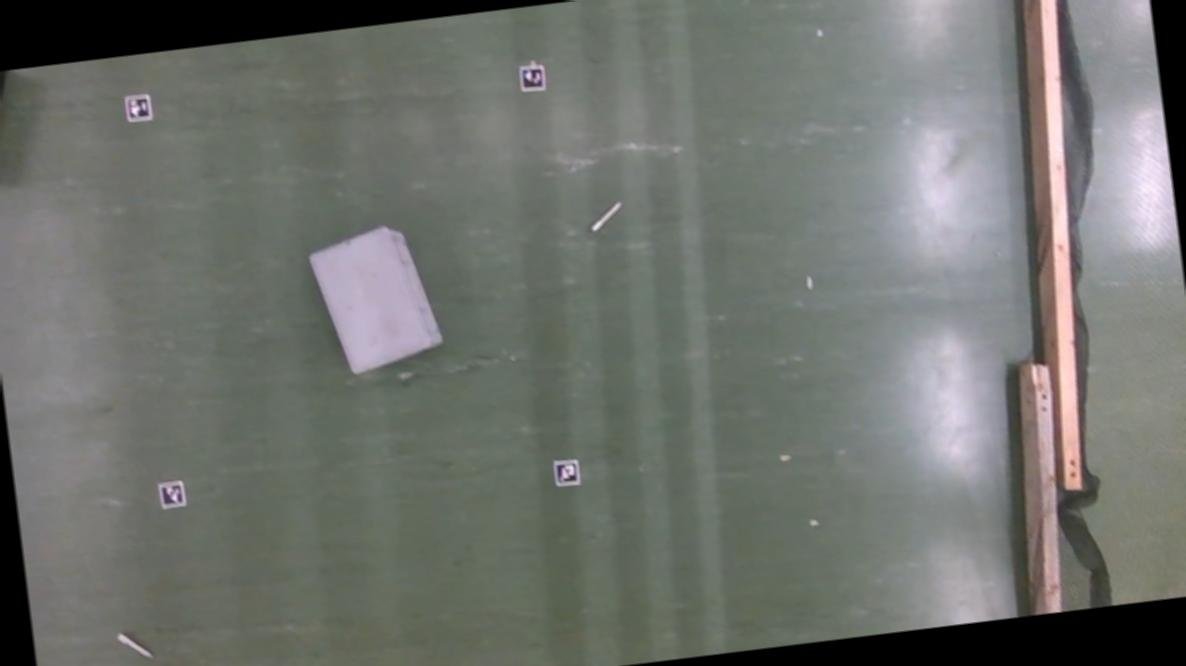probes: (589, 198, 625, 232), (119, 628, 152, 660)
rako: (306, 218, 446, 374), (0, 69, 19, 180)
